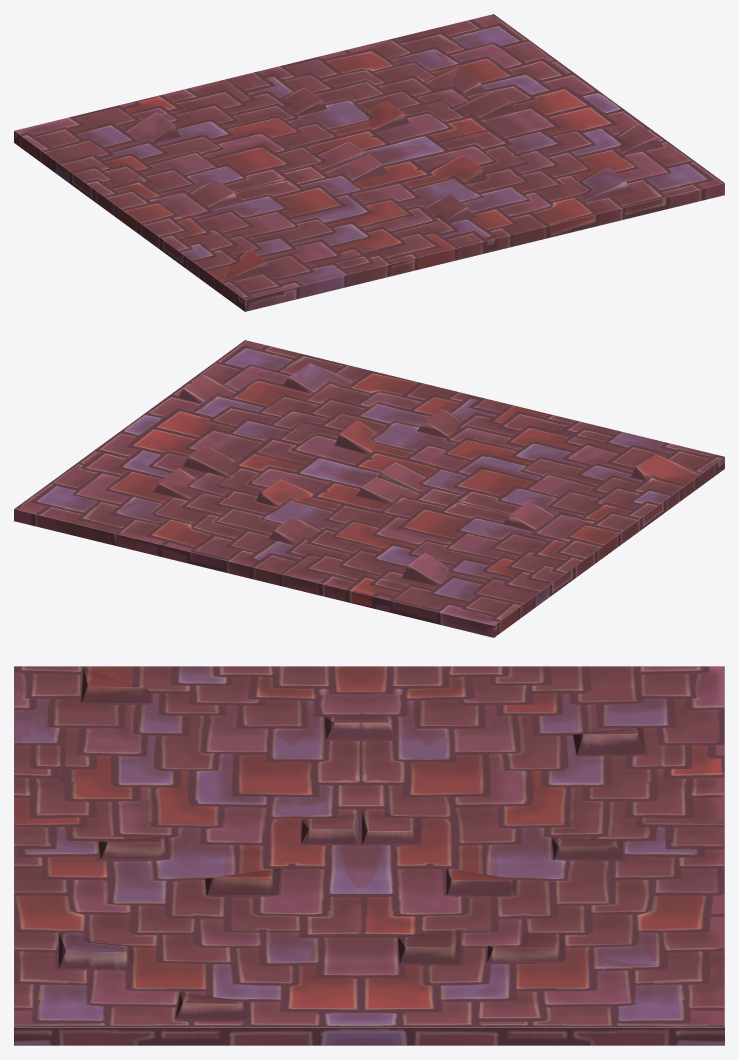
The model's file is Telhado_Casa_Rica.fbx.
3 views of the same model, one above another, from view 1: azimuth 30°, elevation 25°; view 2: azimuth 150°, elevation 25°; view 3: azimuth 270°, elevation 25° (orthographic). The views are drawn at different scales.
Parts seen in each view (by area): view 1: Telhado_Casa_Rico; view 2: Telhado_Casa_Rico; view 3: Telhado_Casa_Rico.
Part boxes in pixels (left/top/right/bottom): Telhado_Casa_Rico: left=14, top=14, right=724, bottom=311; Telhado_Casa_Rico: left=14, top=340, right=724, bottom=637; Telhado_Casa_Rico: left=14, top=666, right=724, bottom=1045.
Size of the model in its own units: 291 by 14.05 by 242.
